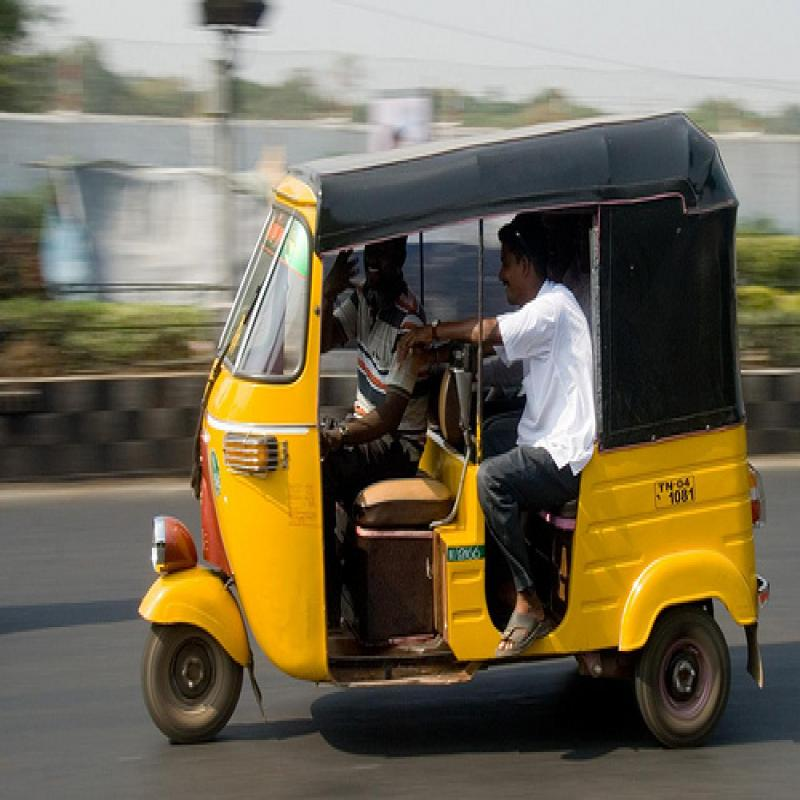auto: (139, 120, 764, 736)
